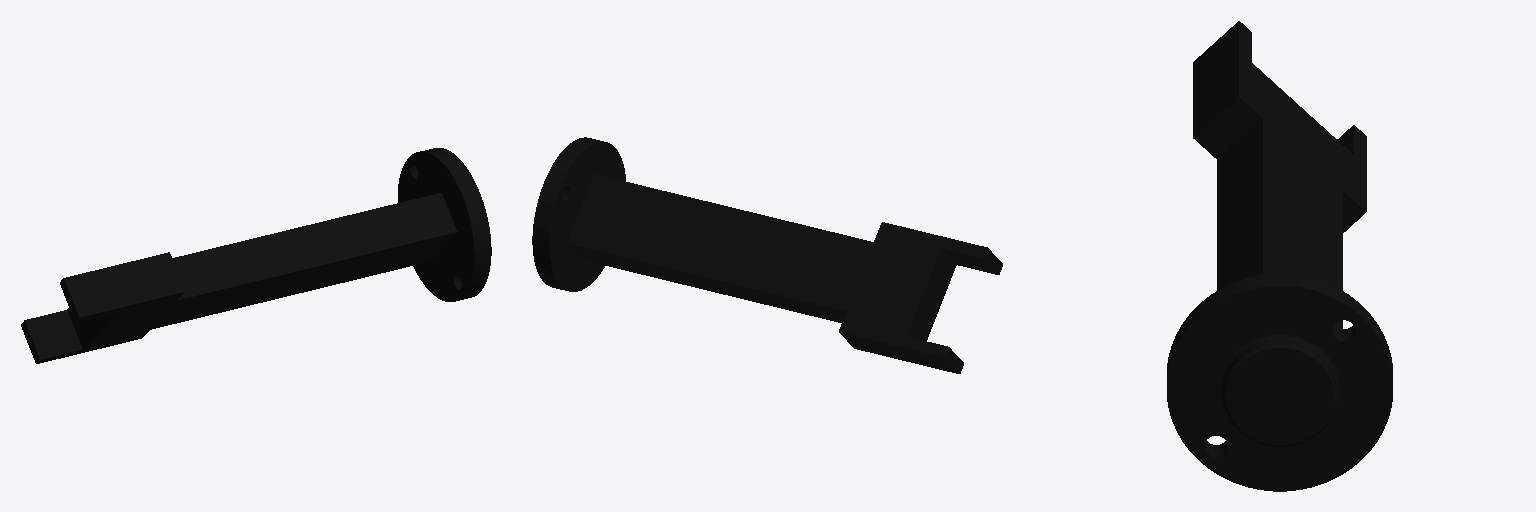
robot.urdf — panda:
<?xml version="1.0" ?>
<robot name="panda" xmlns:xacro="http://www.ros.org/wiki/xacro">
  <link name="panda_link0">
    <visual>
      <geometry>
        <mesh filename="meshes/visual/link0.dae"/>
      </geometry>
    </visual>
    <collision>
      <geometry>
        <mesh filename="meshes/collision/link0.obj"/>
      </geometry>
    </collision>
    <inertial>
      <!-- Estimated guesses from CAD -->
      <origin rpy="0 0 0" xyz="-0.041018 -0.00014 0.049974"/>
      <mass value="0.629769"/>  
      <inertia ixx="0.00315" ixy="8.2904e-7" ixz="0.0015" iyy="0.00388" iyz="8.2299e-6" izz="0.004285"/>
    </inertial>
  </link>
  <link name="panda_link1">
    <visual>
      <geometry>
        <mesh filename="meshes/visual/link1.dae"/>
      </geometry>
    </visual>
    <collision>
      <geometry>
        <mesh filename="meshes/collision/link1.obj"/>
      </geometry>
    </collision>
    <inertial>
      <origin rpy="0 0 0" xyz="0.003875 0.002081 -0.04762"/>
      <mass value="4.970684"/>
      <inertia ixx="0.70337" ixy="-0.00013900" ixz="0.0067720" iyy="0.70661" iyz="0.019169" izz="0.0091170"/>
    </inertial>
  </link>
  <joint name="panda_joint1" type="revolute">
    <safety_controller k_position="100.0" k_velocity="40.0" soft_lower_limit="-2.8973" soft_upper_limit="2.8973"/>
    <origin rpy="0 0 0" xyz="0 0 0.333"/>
    <parent link="panda_link0"/>
    <child link="panda_link1"/>
    <axis xyz="0 0 1"/>
    <dynamics damping="10.0"/>
    <limit effort="87" lower="-2.8973" upper="2.8973" velocity="2.1750"/>
  </joint>
  <link name="panda_link2">
    <visual>
      <geometry>
        <mesh filename="meshes/visual/link2.dae"/>
      </geometry>
    </visual>
    <collision>
      <geometry>
        <mesh filename="meshes/collision/link2.obj"/>
      </geometry>
    </collision>
    <inertial>
      <origin rpy="0 0 0" xyz=" -0.003141 -0.02872  0.003495"/>
      <mass value="0.646926"/>
      <inertia ixx="0.0079620" ixy="-3.9250e-3" ixz="1.0254e-02" iyy="2.8110e-02" iyz="7.0400e-04" izz="2.5995e-02"/>
    </inertial>
  </link>
  <joint name="panda_joint2" type="revolute">
    <safety_controller k_position="100.0" k_velocity="40.0" soft_lower_limit="-1.7628" soft_upper_limit="1.7628"/>
    <origin rpy="-1.57079632679 0 0" xyz="0 0 0"/>
    <parent link="panda_link1"/>
    <child link="panda_link2"/>
    <axis xyz="0 0 1"/>
    <dynamics damping="10.0"/>
    <limit effort="87" lower="-1.7628" upper="1.7628" velocity="2.1750"/>
  </joint>
  <link name="panda_link3">
    <visual>
      <geometry>
        <mesh filename="meshes/visual/link3.dae"/>
      </geometry>
    </visual>
    <collision>
      <geometry>
        <mesh filename="meshes/collision/link3.obj"/>
      </geometry>
    </collision>
    <inertial>
      <origin rpy="0 0 0" xyz="2.7518e-02 3.9252e-02 -6.6502e-02"/>
      <mass value="3.228604"/>
      <inertia ixx="3.7242e-02" ixy="-4.7610e-03" ixz="-1.1396e-02" iyy="3.6155e-02" iyz="-1.2805e-02" izz="1.0830e-02"/>
    </inertial>
  </link>
  <joint name="panda_joint3" type="revolute">
    <safety_controller k_position="100.0" k_velocity="40.0" soft_lower_limit="-2.8973" soft_upper_limit="2.8973"/>
    <origin rpy="1.57079632679 0 0" xyz="0 -0.316 0"/>
    <parent link="panda_link2"/>
    <child link="panda_link3"/>
    <axis xyz="0 0 1"/>
    <dynamics damping="10.0"/>
    <limit effort="87" lower="-2.8973" upper="2.8973" velocity="2.1750"/>
  </joint>
  <link name="panda_link4">
    <visual>
      <geometry>
        <mesh filename="meshes/visual/link4.dae"/>
      </geometry>
    </visual>
    <collision>
      <geometry>
        <mesh filename="meshes/collision/link4.obj"/>
      </geometry>
    </collision>
    <inertial>
      <origin rpy="0 0 0" xyz="-5.317e-02 1.04419e-01 2.7454e-02"/>
      <mass value="3.587895"/>
      <inertia ixx="2.5853e-02" ixy="7.7960e-03" ixz="-1.3320e-03" iyy="1.9552e-02" iyz="8.6410e-03" izz="2.8323e-02"/>
    </inertial>
  </link>
  <joint name="panda_joint4" type="revolute">
    <safety_controller k_position="100.0" k_velocity="40.0" soft_lower_limit="-3.0718" soft_upper_limit="-0.0698"/>
    <origin rpy="1.57079632679 0 0" xyz="0.0825 0 0"/>
    <parent link="panda_link3"/>
    <child link="panda_link4"/>
    <axis xyz="0 0 1"/>    
    <dynamics damping="10.0"/>
    <limit effort="87" lower="-3.0718" upper="-0.0698" velocity="2.1750"/>
    <!-- something is weird with this joint limit config
    <dynamics damping="10.0"/>
    <limit effort="87" lower="-3.0" upper="0.087" velocity="2.1750"/>  -->
  </joint>
  <link name="panda_link5">
    <visual>
      <geometry>
        <mesh filename="meshes/visual/link5.dae"/>
      </geometry>
    </visual>
    <collision>
      <geometry>
        <mesh filename="meshes/collision/link5.obj"/>
      </geometry>
    </collision>
    <inertial>
      <origin rpy="0 0 0" xyz="-1.1953e-02 4.1065e-02 -3.8437e-02"/>
      <mass value="1.225946"/>
      <inertia ixx="3.5549e-02" ixy="-2.1170e-03" ixz="-4.0370e-03" iyy="2.9474e-02" iyz="2.2900e-04" izz="8.6270e-03"/>
    </inertial>
  </link>
  <joint name="panda_joint5" type="revolute">
    <safety_controller k_position="100.0" k_velocity="40.0" soft_lower_limit="-2.8973" soft_upper_limit="2.8973"/>
    <origin rpy="-1.57079632679 0 0" xyz="-0.0825 0.384 0"/>
    <parent link="panda_link4"/>
    <child link="panda_link5"/>
    <axis xyz="0 0 1"/>
    <dynamics damping="10.0"/>
    <limit effort="12" lower="-2.8973" upper="2.8973" velocity="2.6100"/>
  </joint>
  <link name="panda_link6">
    <visual>
      <geometry>
        <mesh filename="meshes/visual/link6.dae"/>
      </geometry>
    </visual>
    <collision>
      <geometry>
        <mesh filename="meshes/collision/link6.obj"/>
      </geometry>
    </collision>
    <inertial>
      <origin rpy="0 0 0" xyz="6.0149e-02 -1.4117e-02 -1.0517e-02"/>
      <mass value="1.666555"/>
      <inertia ixx="1.9640e-03" ixy="1.0900e-04" ixz="-1.1580e-03" iyy="4.3540e-03" iyz="3.4100e-04" izz="5.4330e-03"/>
    </inertial>
  </link>
  <joint name="panda_joint6" type="revolute">
    <safety_controller k_position="100.0" k_velocity="40.0" soft_lower_limit="-0.0175" soft_upper_limit="3.7525"/>
    <origin rpy="1.57079632679 0 0" xyz="0 0 0"/>
    <parent link="panda_link5"/>
    <child link="panda_link6"/>
    <axis xyz="0 0 1"/>
    <dynamics damping="10.0"/>
    <limit effort="12" lower="-0.0175" upper="3.7525" velocity="2.6100"/>
    <!-- <dynamics damping="10.0"/>
    <limit effort="12" lower="-0.0873" upper="3.0" velocity="2.6100"/> -->
  </joint>
  <link name="panda_link7">
    <visual>
      <geometry>
        <mesh filename="meshes/visual/link7.dae"/>
      </geometry>
    </visual>
    <collision>
      <geometry>
        <mesh filename="meshes/collision/link7.obj"/>
      </geometry>
    </collision>
    <inertial>
      <origin rpy="0 0 0" xyz="1.0517e-02 -4.252e-03 6.1597e-02"/>
      <mass value="7.35522e-01"/>
      <inertia ixx="1.2516e-02" ixy="-4.2800e-04" ixz="-1.1960e-03" iyy="1.0027e-02" iyz="-7.4100e-04" izz="4.8150e-03"/>
    </inertial>
  </link>
  <joint name="panda_joint7" type="revolute">
    <safety_controller k_position="100.0" k_velocity="40.0" soft_lower_limit="-2.8973" soft_upper_limit="2.8973"/>
    <origin rpy="1.57079632679 0 0" xyz="0.088 0 0"/>
    <parent link="panda_link6"/>
    <child link="panda_link7"/>
    <axis xyz="0 0 1"/>
    <dynamics damping="10.0"/>
    <limit effort="12" lower="-2.8973" upper="2.8973" velocity="2.6100"/>
  </joint>
  <!--
  <link name="panda_link8"/>
  <joint name="panda_joint8" type="fixed">
    <origin rpy="0 0 0" xyz="0 0 0.107"/>
    <parent link="panda_link7"/>
    <child link="panda_link8"/>
    <axis xyz="0 0 0"/>
  </joint>
  Removing this joint seems to help with some stability things
  -->
  <joint name="panda_hand_joint" type="fixed">
    <!--
    <parent link="panda_link8"/>
    -->
    <parent link="panda_link7"/>
    <child link="panda_hand"/>
    <origin rpy="0 0 -0.785398163397" xyz="0 0 0.106    "/>
    <!--
    <origin rpy="0 0 -0.785398163397" xyz="0 0 0"/>
    -->
  </joint>
  <link name="panda_hand">
        <visual>
            <geometry>
                <mesh filename="meshes/visual/handv2.dae"/>
            </geometry>
        </visual>
        <collision>
            <geometry>
                <mesh filename="meshes/collision/handv2-collision-acd.obj"/>
            </geometry>
        </collision>
        <inertial>
            <mass value="0.058"/>
            <origin rpy="0 0 0" xyz="-5.78752982e-05 -1.99284281e-07 8.07779665e-02"/>
            <!-- <origin rpy="0 0 0" xyz="4.56355733e-06 1.37559474e-02 2.45973584e-02"/> -->
            <!-- <inertia ixx="0.001" ixy="0.0" ixz="0.0" iyy="0.0025" iyz="0.0" izz="0.0017"/> -->
            <inertia ixx="2.17007598e-04" ixy="0" ixz="0" iyy="2.22535505e-04" iyz="0" izz="1.56126341e-05" />
        </inertial>
    </link>
    <link name="panda_leftfinger">
        <visual>
            <geometry>
                <mesh filename="meshes/visual/handv2-finger.dae"/>
            </geometry>
        </visual>
        <collision>
            <geometry>
                <mesh filename="meshes/collision/handv2-finger-collision.obj"/>
            </geometry>
        </collision>
    </link>
    <link name="panda_rightfinger">
        <visual>
            <geometry>
                <mesh filename="meshes/visual/handv2-finger.dae"/>
            </geometry>
        </visual>
        <collision>
            <geometry>
                <mesh filename="meshes/collision/handv2-finger-collision.obj"/>
            </geometry>
        </collision>
    </link>
    <link name="panda_tool"/>
  <joint name="panda_finger_joint1" type="fixed">
    <parent link="panda_hand"/>
    <child link="panda_leftfinger"/>
    <origin rpy="0 0 -1.57079632679" xyz="0.0225 0 0.17"/>
    <axis xyz="0 1 0"/>
    <dynamics damping="10.0"/>
    <!-- <limit effort="20" lower="0.0" upper="0.04" velocity="0.2"/> -->
  </joint>
  <joint name="panda_finger_joint2" type="fixed">
    <parent link="panda_hand"/>
    <child link="panda_rightfinger"/>
    <origin rpy="0 0 -1.57079632679" xyz="-0.0225 0 0.17"/>
    <axis xyz="0 -1 0"/>
    <dynamics damping="10.0"/>
    <limit effort="20" lower="0.0" upper="0.04" velocity="0.2"/>
  </joint>
  <joint name="panda_hand_tool_joint" type="fixed">
    <origin xyz="0 0 0.19" rpy="0 0 0" />
    <parent link="panda_hand" />
    <child link="panda_tool" />
  </joint>
</robot>

--- Render facts (derived) ---
Views: 3 orthographic renders of the robot side by side, from view 1: azimuth 30°, elevation 25°; view 2: azimuth 150°, elevation 25°; view 3: azimuth 270°, elevation 25°.
Robot: panda — 12 links, 11 joints (7 revolute, 4 fixed); root link panda_link0; default pose: joints at zero except 1 at the middle of their limits (panda_joint4 = -1.57).
Links seen in each view (by area): view 1: panda_hand, panda_rightfinger, panda_leftfinger; view 2: panda_hand, panda_rightfinger, panda_leftfinger; view 3: panda_hand, panda_rightfinger, panda_leftfinger.
Link boxes in pixels (<box>): panda_hand: <box>67,148,491,353</box>; panda_rightfinger: <box>60,268,121,321</box>; panda_leftfinger: <box>21,310,82,363</box>; panda_hand: <box>532,137,956,363</box>; panda_rightfinger: <box>941,237,1002,274</box>; panda_leftfinger: <box>902,336,963,373</box>; panda_hand: <box>1167,51,1392,491</box>; panda_rightfinger: <box>1193,21,1251,91</box>; panda_leftfinger: <box>1337,125,1366,165</box>.
Bounding box of the posed robot: 0.1955 × 0.0629 × 0.0629 m (x, y, z).
Meshes: 10 distinct files referenced, 3 mesh visuals loaded (2 Collada DAE); not drawn: 8 (reference not matched to a file when rendering).